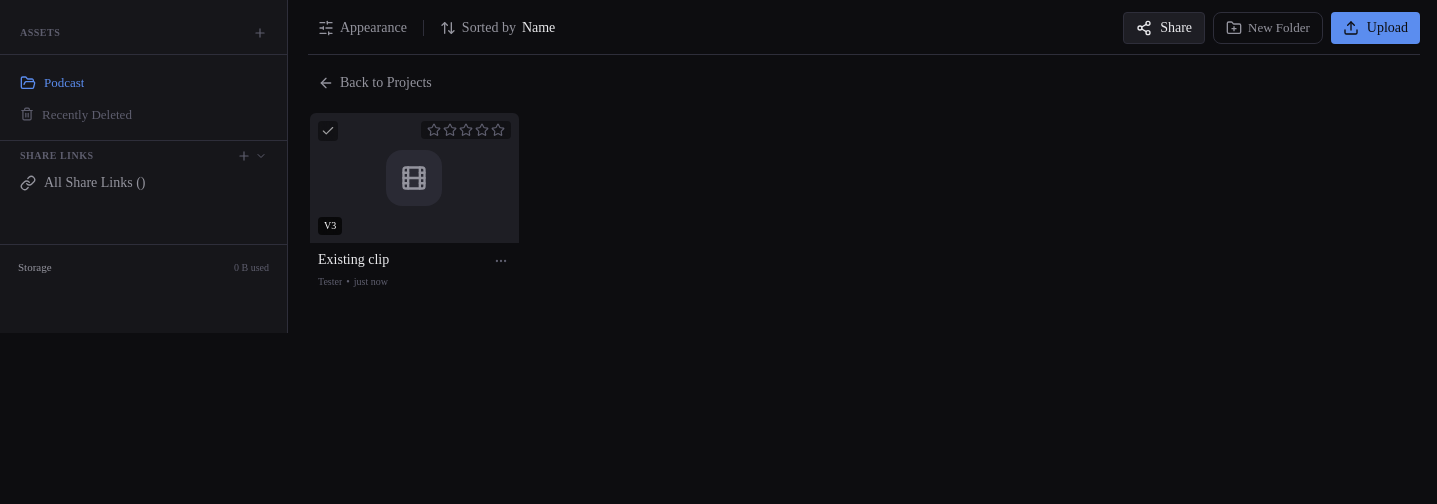
Test: §232 — Share and Download are in the grid card ··· menu › an editor gets the same, because canShare and canEditAssets both include editor
Step 1. Click the button without text next to "Existing clip" → (501, 262), box 491,252 -> 511,272
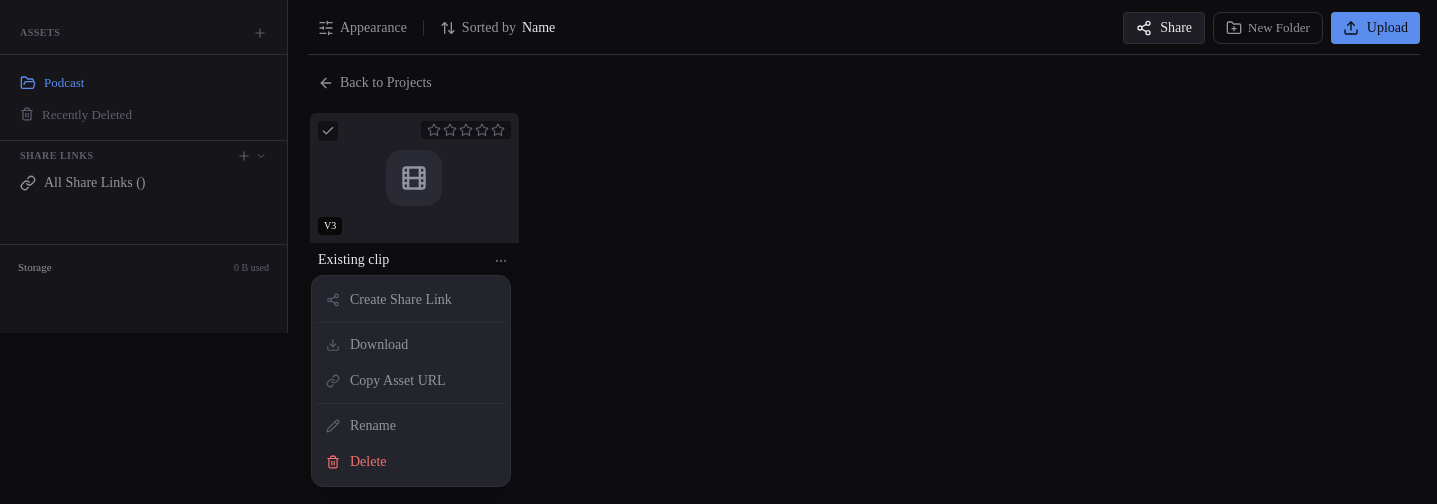
Result: the menu item "Create Share Link" is shown at 326,292 -> 452,307
Result: the menu item "Download" is shown at 326,337 -> 408,352
Result: the menu item "Rename" is shown at 326,418 -> 396,433
